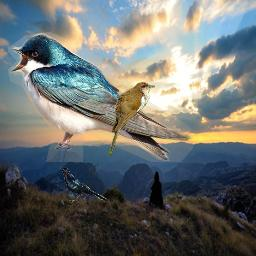Crow: (59, 167, 107, 204)
Cuckoo: (109, 81, 155, 158)
Swallow: (8, 32, 193, 162)
